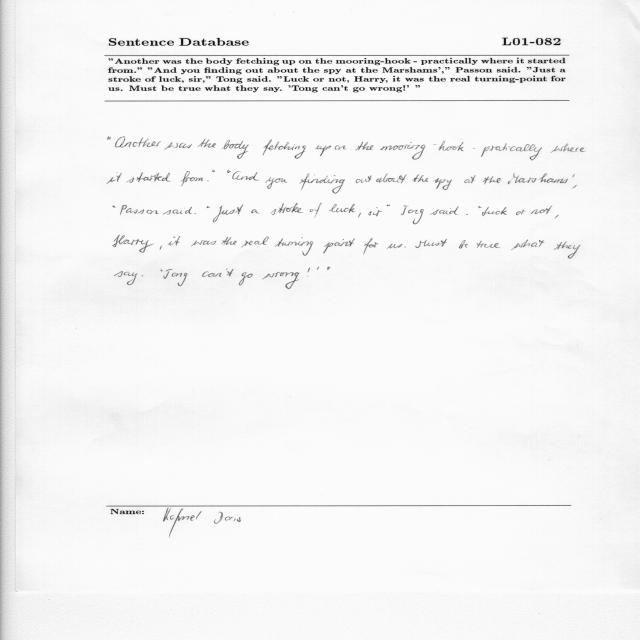word: (275, 237, 355, 256), (380, 141, 464, 159), (481, 144, 542, 161), (300, 174, 345, 194), (263, 139, 306, 159), (113, 235, 154, 253), (508, 173, 575, 184), (263, 272, 300, 289), (222, 140, 249, 159), (213, 205, 243, 222), (115, 137, 161, 148), (127, 172, 171, 183), (554, 242, 581, 259), (401, 206, 424, 225), (164, 269, 188, 286), (270, 203, 303, 215), (120, 205, 159, 215), (511, 240, 544, 251), (181, 171, 203, 186), (115, 271, 138, 285), (376, 174, 407, 184), (241, 237, 269, 248), (551, 144, 585, 153), (416, 239, 448, 248), (202, 268, 234, 277), (265, 177, 287, 189), (430, 206, 459, 215), (364, 238, 379, 255), (232, 172, 259, 181), (329, 204, 356, 213), (432, 178, 452, 190), (163, 207, 192, 215), (482, 207, 507, 216), (165, 142, 193, 150), (239, 272, 253, 286), (310, 203, 322, 218), (315, 145, 331, 156), (531, 206, 553, 214), (107, 173, 122, 184), (198, 139, 216, 148), (356, 142, 374, 151), (477, 241, 500, 248), (191, 241, 217, 247), (483, 176, 501, 184), (412, 174, 429, 182), (356, 175, 372, 183), (221, 237, 237, 245), (168, 236, 180, 246), (465, 175, 476, 183), (368, 210, 382, 216), (459, 240, 468, 249), (387, 244, 402, 249), (335, 145, 346, 150), (516, 210, 526, 215), (251, 210, 259, 214), (307, 268, 310, 277), (572, 185, 577, 189), (555, 215, 559, 219), (227, 170, 231, 173), (359, 213, 362, 217), (327, 267, 331, 270), (160, 245, 162, 250), (108, 137, 111, 140), (212, 170, 215, 172), (113, 206, 116, 208), (207, 206, 210, 208), (387, 205, 390, 207), (479, 206, 482, 208), (317, 267, 319, 270), (161, 269, 163, 271), (473, 148, 475, 149), (207, 181, 209, 182), (194, 213, 196, 214), (376, 207, 378, 208), (467, 214, 469, 215), (404, 247, 406, 248), (142, 276, 143, 277)
